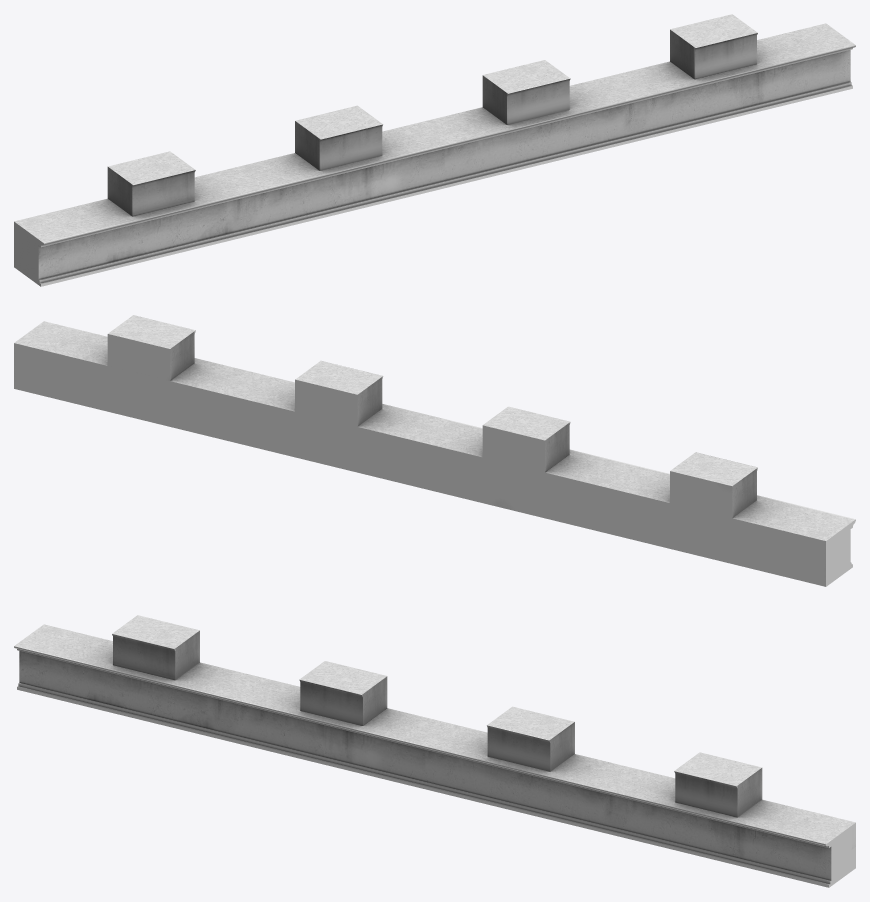
File: roof_2.glb
The picture shows the model from 3 angles, top to bottom: view 1: azimuth 30°, elevation 25°; view 2: azimuth 150°, elevation 25°; view 3: azimuth 330°, elevation 25°; orthographic projection.
Parts seen in each view (by area): view 1: roof_2; view 2: roof_2; view 3: roof_2.
Boxes of the visible parts, box(x1,y1,x2,y2) form: roof_2: box(14, 14, 855, 286); roof_2: box(14, 315, 855, 586); roof_2: box(14, 615, 855, 887).
Bounding box in the file's own units: 6.5 × 0.5953 × 0.4147.
Materials: 1 (1 with a texture image).
